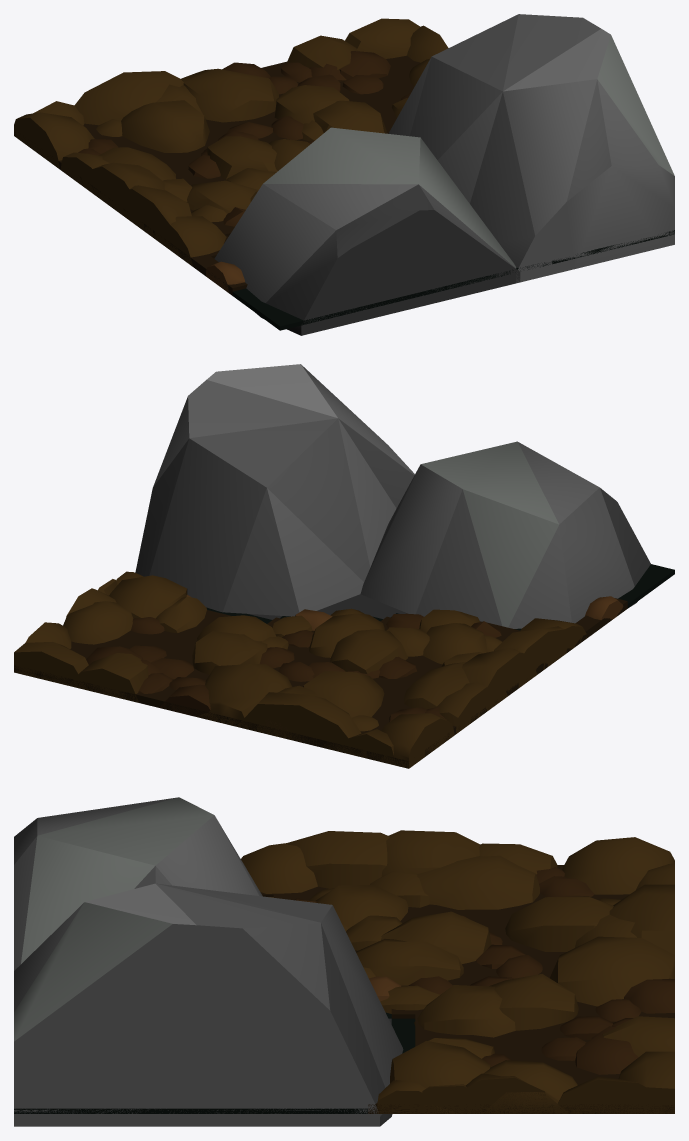
Rendered from holes_rocks_tl.glb.
3 views of the same model, one above another, from view 1: azimuth 30°, elevation 25°; view 2: azimuth 150°, elevation 25°; view 3: azimuth 270°, elevation 25° (orthographic). The views are drawn at different scales.
Visible parts, largest first — view 1: holes_rocks_tl_rock_mid, holes_rocks_tl_rock_left, holes_rocks_tl_dirt_base, holes_rocks_tl_dirt_34, holes_rocks_tl_dirt_49, holes_rocks_tl_dirt_19, holes_rocks_tl_dirt_57, holes_rocks_tl_dirt_29, holes_rocks_tl_pit, holes_rocks_tl_dirt_104, holes_rocks_tl_dirt_8, holes_rocks_tl_dirt_83 (+17 smaller); view 2: holes_rocks_tl_rock_mid, holes_rocks_tl_rock_left, holes_rocks_tl_dirt_base, holes_rocks_tl_dirt_19, holes_rocks_tl_dirt_34, holes_rocks_tl_dirt_104, holes_rocks_tl_dirt_57, holes_rocks_tl_dirt_67, holes_rocks_tl_dirt_49, holes_rocks_tl_dirt_83, holes_rocks_tl_dirt_8, holes_rocks_tl_dirt_5 (+20 smaller); view 3: holes_rocks_tl_rock_mid, holes_rocks_tl_rock_left, holes_rocks_tl_dirt_base, holes_rocks_tl_dirt_34, holes_rocks_tl_dirt_55, holes_rocks_tl_dirt_57, holes_rocks_tl_dirt_29, holes_rocks_tl_dirt_49, holes_rocks_tl_dirt_79, holes_rocks_tl_dirt_15, holes_rocks_tl_dirt_42, holes_rocks_tl_dirt_78 (+28 smaller).
Part boxes in pixels (x1=…): holes_rocks_tl_rock_mid: x1=388, y1=14, x2=674, y2=282; holes_rocks_tl_rock_left: x1=214, y1=127, x2=520, y2=335; holes_rocks_tl_dirt_base: x1=14, y1=55, x2=420, y2=295; holes_rocks_tl_dirt_34: x1=181, y1=68, x2=278, y2=122; holes_rocks_tl_dirt_49: x1=121, y1=100, x2=209, y2=152; holes_rocks_tl_dirt_19: x1=74, y1=71, x2=183, y2=125; holes_rocks_tl_dirt_57: x1=14, y1=112, x2=94, y2=169; holes_rocks_tl_dirt_29: x1=112, y1=185, x2=191, y2=256; holes_rocks_tl_pit: x1=232, y1=230, x2=674, y2=330; holes_rocks_tl_dirt_104: x1=83, y1=162, x2=164, y2=229; holes_rocks_tl_dirt_8: x1=206, y1=136, x2=277, y2=179; holes_rocks_tl_dirt_83: x1=345, y1=18, x2=419, y2=58; holes_rocks_tl_rock_mid: x1=135, y1=364, x2=414, y2=616; holes_rocks_tl_rock_left: x1=360, y1=441, x2=650, y2=628; holes_rocks_tl_dirt_base: x1=14, y1=598, x2=627, y2=768; holes_rocks_tl_dirt_19: x1=236, y1=692, x2=363, y2=757; holes_rocks_tl_dirt_34: x1=196, y1=664, x2=292, y2=727; holes_rocks_tl_dirt_104: x1=462, y1=648, x2=538, y2=717; holes_rocks_tl_dirt_57: x1=381, y1=713, x2=454, y2=768; holes_rocks_tl_dirt_67: x1=68, y1=653, x2=148, y2=702; holes_rocks_tl_dirt_49: x1=303, y1=671, x2=384, y2=717; holes_rocks_tl_dirt_83: x1=14, y1=642, x2=88, y2=690; holes_rocks_tl_dirt_8: x1=330, y1=629, x2=407, y2=673; holes_rocks_tl_dirt_5: x1=63, y1=601, x2=133, y2=644; holes_rocks_tl_rock_mid: x1=14, y1=883, x2=403, y2=1126; holes_rocks_tl_rock_left: x1=14, y1=797, x2=262, y2=970; holes_rocks_tl_dirt_base: x1=260, y1=865, x2=674, y2=1113; holes_rocks_tl_dirt_34: x1=550, y1=936, x2=674, y2=1006; holes_rocks_tl_dirt_55: x1=416, y1=855, x2=539, y2=909; holes_rocks_tl_dirt_57: x1=562, y1=837, x2=674, y2=894; holes_rocks_tl_dirt_29: x1=288, y1=831, x2=389, y2=888; holes_rocks_tl_dirt_49: x1=505, y1=896, x2=613, y2=951; holes_rocks_tl_dirt_79: x1=414, y1=985, x2=515, y2=1037; holes_rocks_tl_dirt_15: x1=489, y1=974, x2=578, y2=1030; holes_rocks_tl_dirt_42: x1=356, y1=939, x2=463, y2=985; holes_rocks_tl_dirt_78: x1=390, y1=1041, x2=490, y2=1113.
Bounding box in the file's own units: 23.98 × 9.47 × 27.98.
